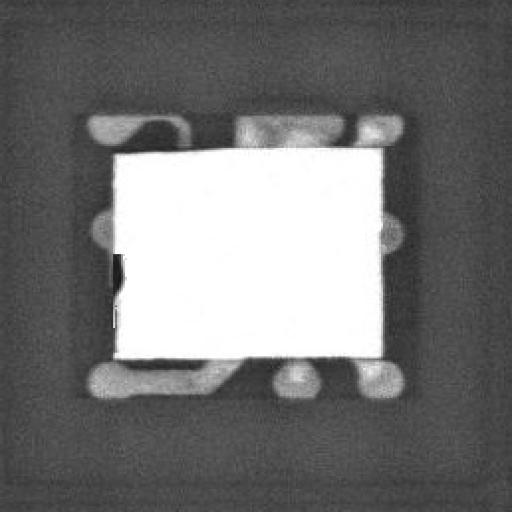DIE_BROKEN: (107, 248, 123, 294)
